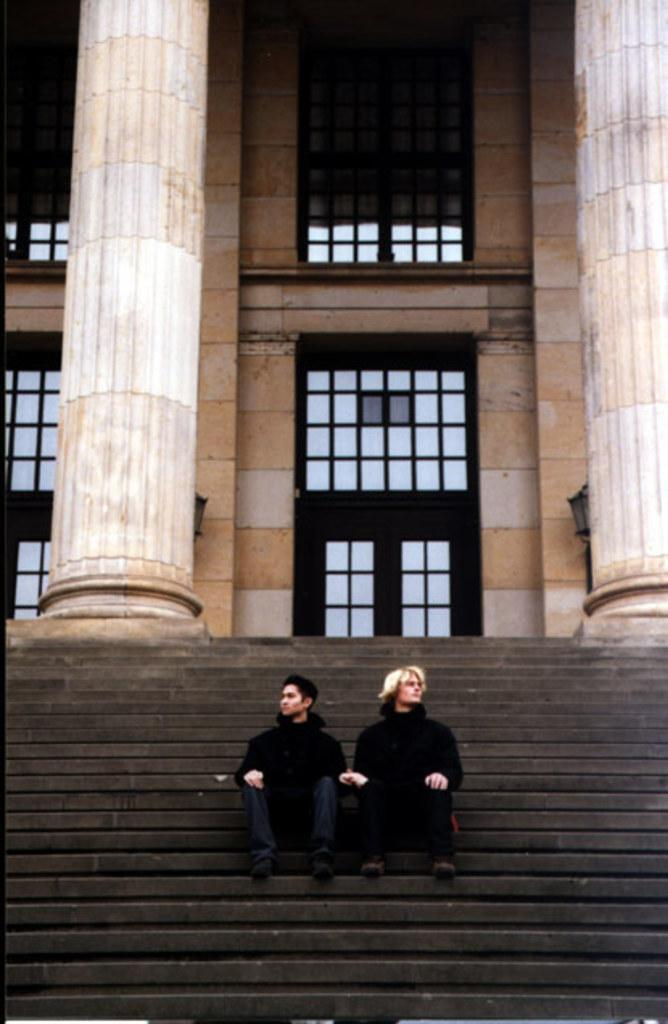door: (304, 518, 388, 636), (396, 513, 468, 650)
